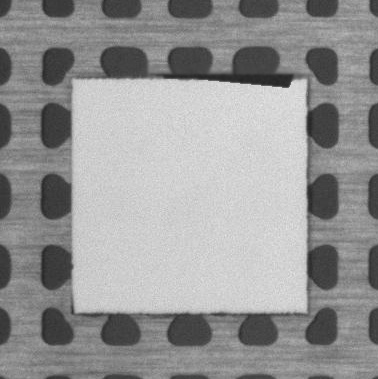DIE_BROKEN: (158, 68, 297, 88)
